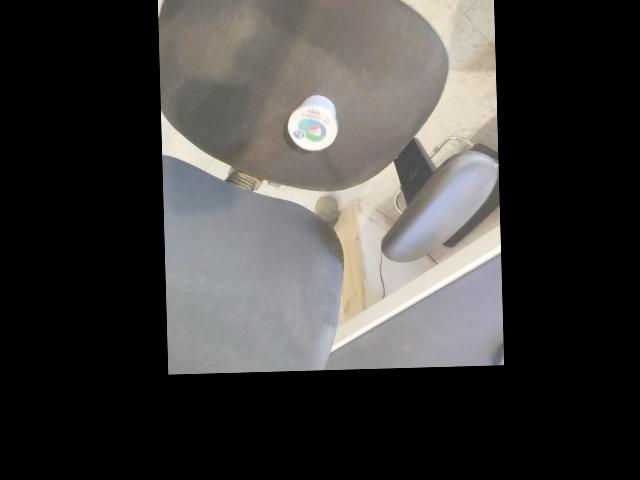cotage: (277, 83, 340, 154)
